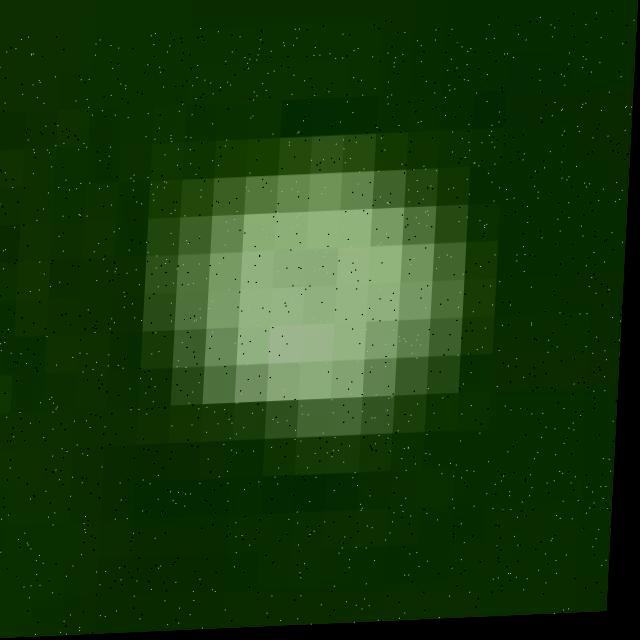ballon: (0, 15, 638, 640)
